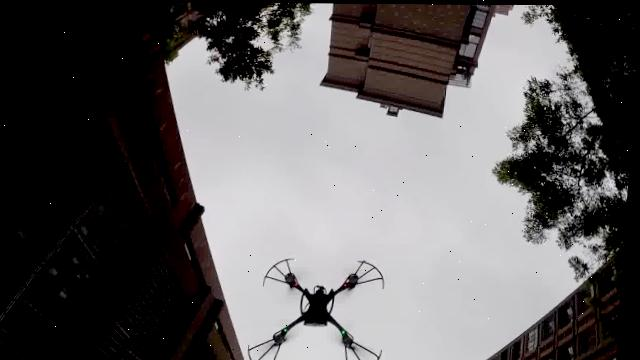drone: (247, 244, 395, 360)
